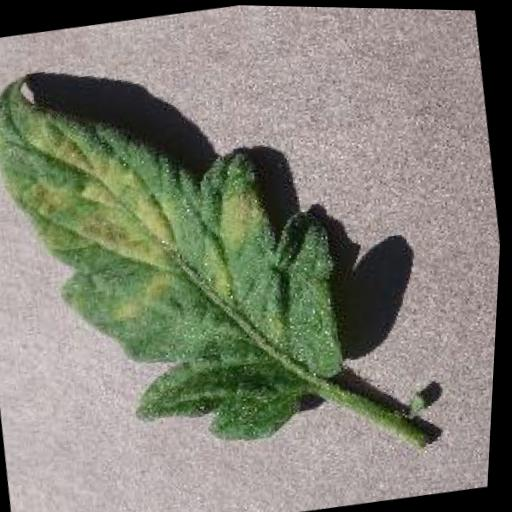Leaf Mold: (0, 30, 368, 475)
